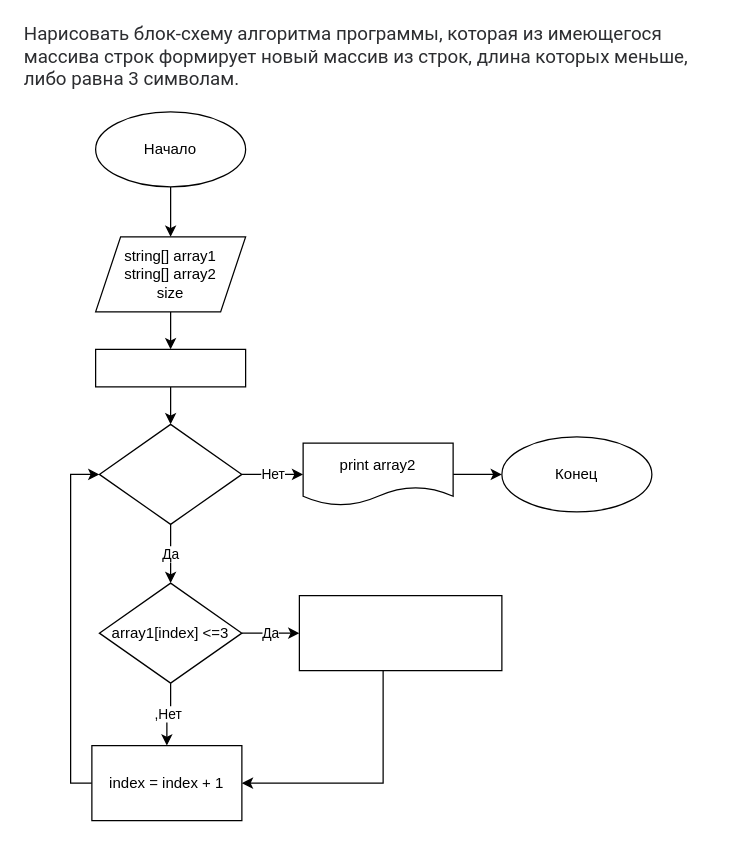
Image size: 755x843. Some labels were removed from this diagram. The shapes that lost their labels are listed below. From the top down, each one's centre as x and y in pixels, then its label:
(x=170, y=367): index = 0
(x=170, y=473): index < size
(x=400, y=632): array2[index] = array1[index]
